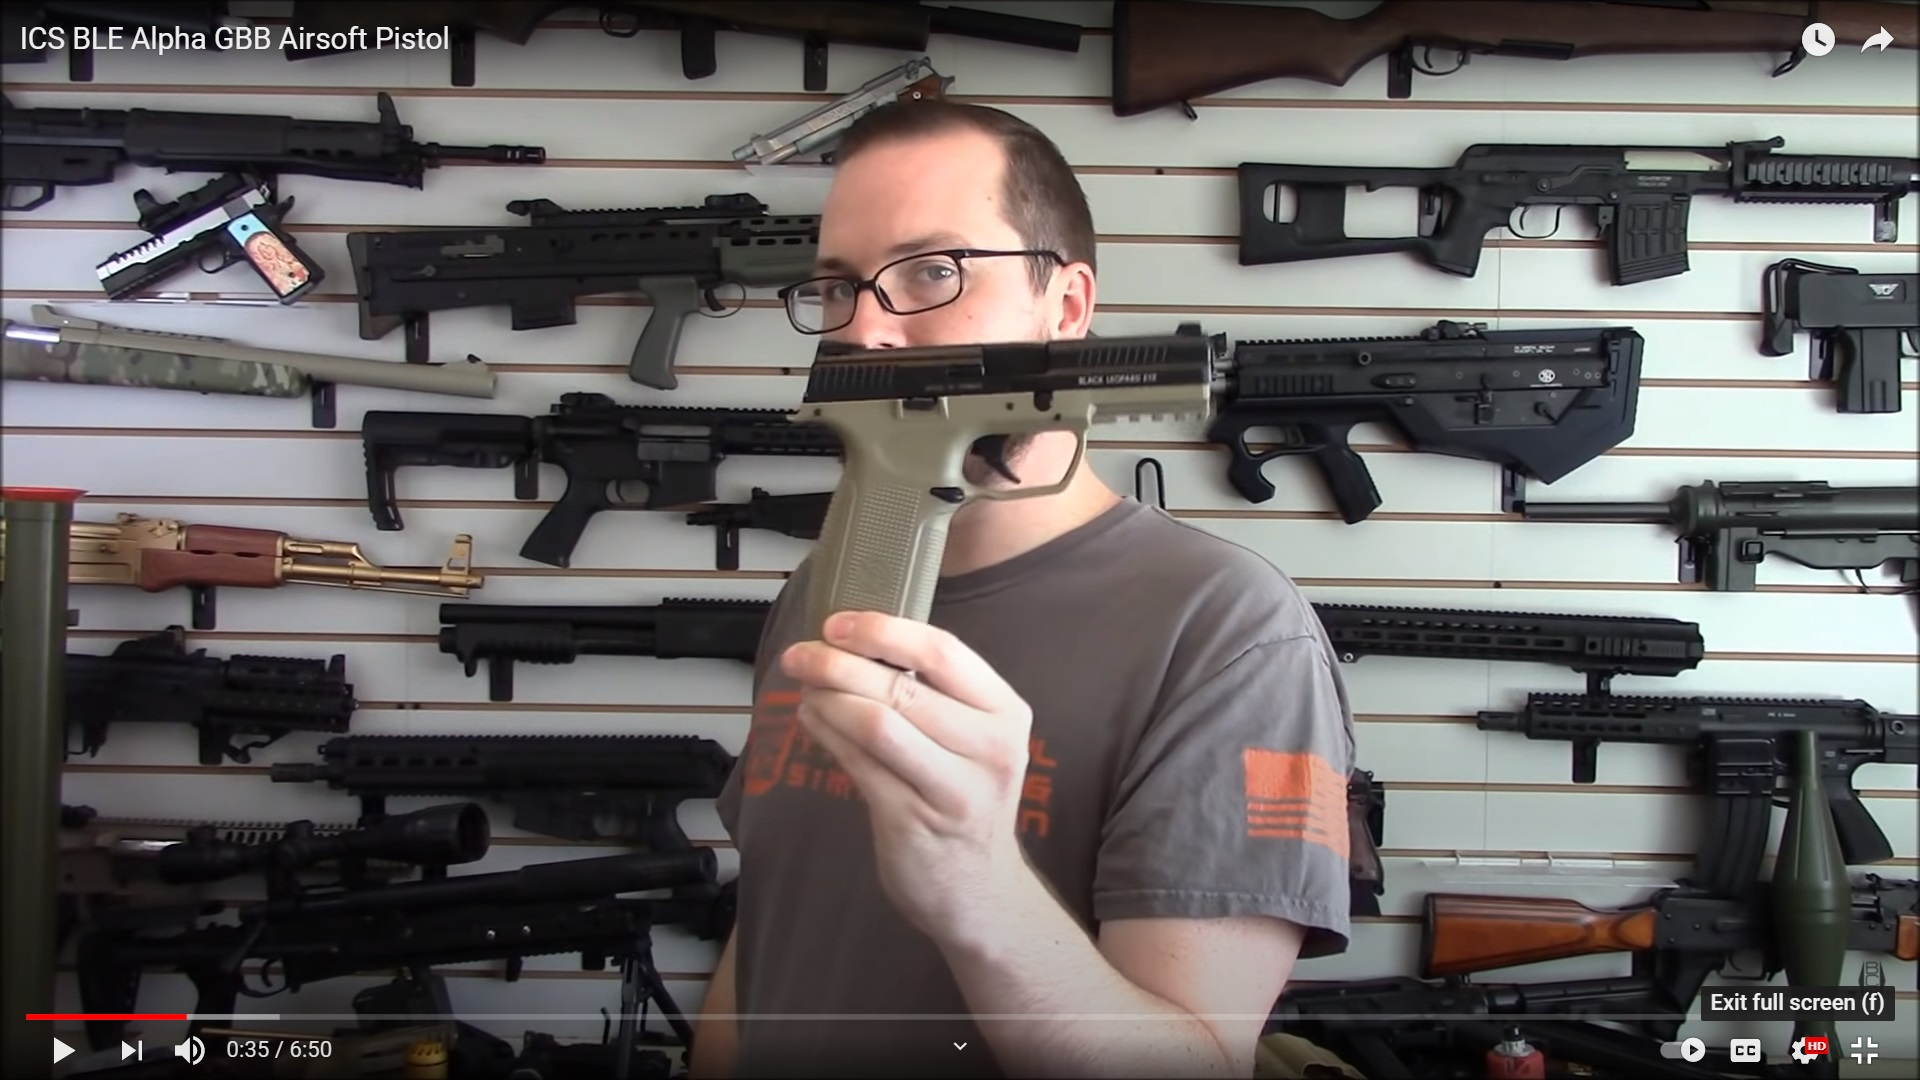asg_ics_ble_xae: (803, 334, 1211, 707)
